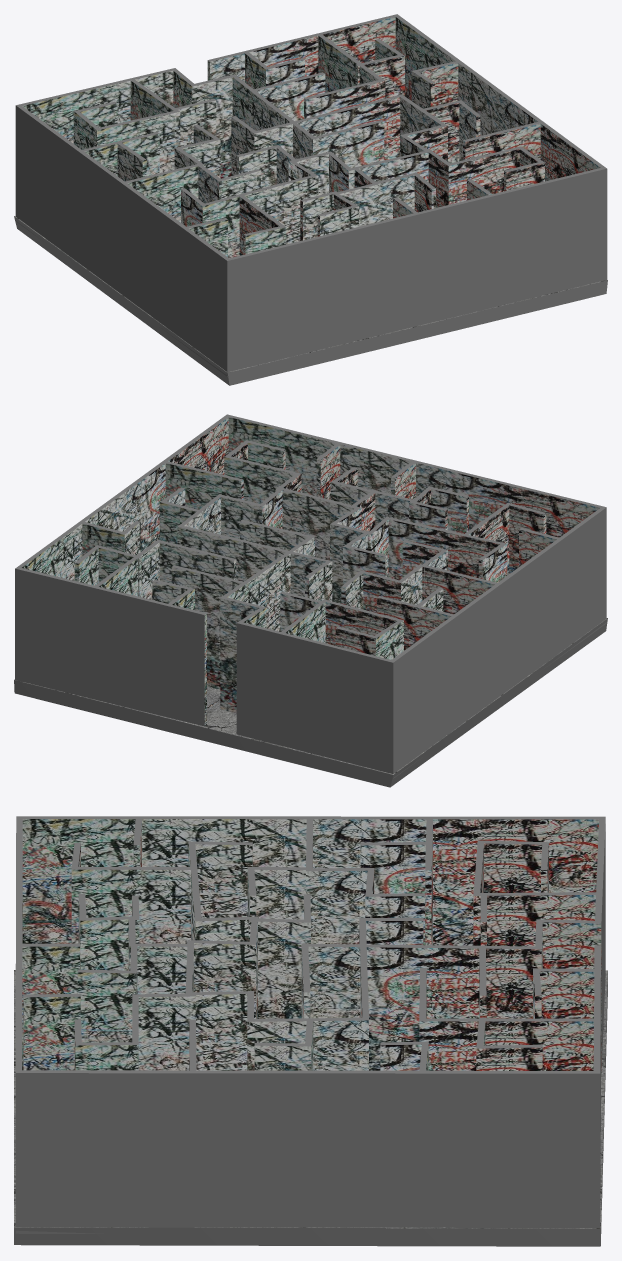
The model's file is Lab3.fbx.
3 views of the same model, one above another, from view 1: azimuth 30°, elevation 25°; view 2: azimuth 150°, elevation 25°; view 3: azimuth 270°, elevation 25° (orthographic). The views are drawn at different scales.
Parts seen in each view (by area): view 1: ParedExterior, ParedExterior013, Wall002, ParedExterior014, ParedExterior015, ParedExterior012, Pared119, Pared098, Pared101, Pared090, Pared136, Pared107 (+43 smaller); view 2: ParedExterior013, ParedExterior015, ParedExterior012, ParedExterior, Wall002, ParedExterior014, Pared119, Pared103, Pared101, Pared125, Pared098, Pared078 (+42 smaller); view 3: ParedExterior014, ParedExterior013, Pared101, Wall002, Pared134, Pared083, Pared106, Pared095, Pared121, Pared114, Pared091, Pared076 (+26 smaller).
Part boxes in pixels (x1,y1,x2,y2): ParedExterior: (227, 168, 607, 376); ParedExterior013: (15, 105, 228, 376); Wall002: (14, 216, 607, 385); ParedExterior014: (395, 14, 606, 181); ParedExterior015: (207, 14, 396, 81); ParedExterior012: (16, 68, 174, 143); Pared119: (202, 175, 314, 258); Pared098: (295, 94, 401, 160); Pared101: (232, 74, 314, 159); Pared090: (448, 146, 520, 204); Pared136: (313, 120, 384, 168); Pared107: (97, 111, 180, 172); ParedExterior013: (391, 507, 606, 778); ParedExterior015: (15, 568, 206, 726); ParedExterior012: (236, 622, 393, 773); ParedExterior: (227, 414, 605, 537); Wall002: (14, 567, 607, 787); ParedExterior014: (15, 414, 228, 580); Pared119: (388, 517, 505, 580); Pared103: (171, 565, 243, 689); Pared101: (221, 536, 314, 631); Pared125: (282, 488, 361, 560); Pared098: (177, 526, 288, 581); Pared078: (165, 461, 243, 509); ParedExterior014: (15, 1070, 600, 1233); ParedExterior013: (17, 816, 605, 945); Pared101: (302, 943, 541, 1070); Wall002: (14, 970, 607, 1246); Pared134: (71, 866, 190, 943); Pared083: (419, 1018, 593, 1070); Pared106: (473, 892, 595, 946); Pared095: (247, 1017, 368, 1070); Pared121: (248, 918, 310, 1018); Pared114: (306, 868, 373, 944); Pared091: (133, 993, 195, 1070); Pared076: (23, 994, 80, 1070).
Bounding box in the file's own units: 300 × 93.7 × 292.
